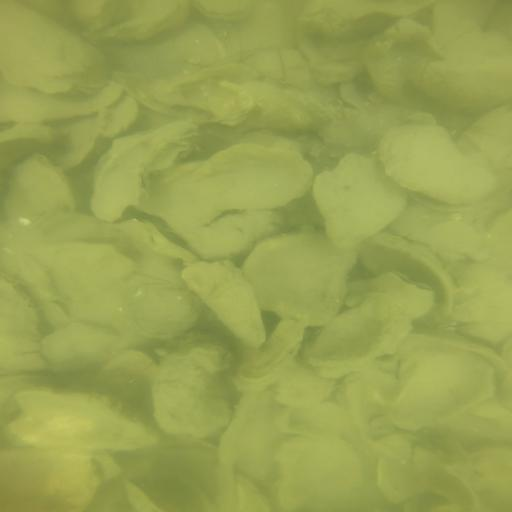Oyster-Closed: (136, 142, 315, 237), (241, 231, 358, 329), (375, 122, 502, 205), (1, 2, 107, 97), (6, 393, 163, 455), (314, 151, 412, 250), (384, 350, 495, 437), (303, 293, 415, 376), (364, 15, 460, 103), (376, 438, 490, 512), (150, 341, 235, 440), (181, 260, 267, 348), (409, 56, 511, 113), (6, 156, 77, 227), (1, 272, 49, 376), (241, 83, 335, 133), (129, 280, 200, 341), (93, 1, 191, 40), (242, 47, 317, 89), (192, 1, 258, 24)
Oyster-Open: (359, 232, 458, 329)
